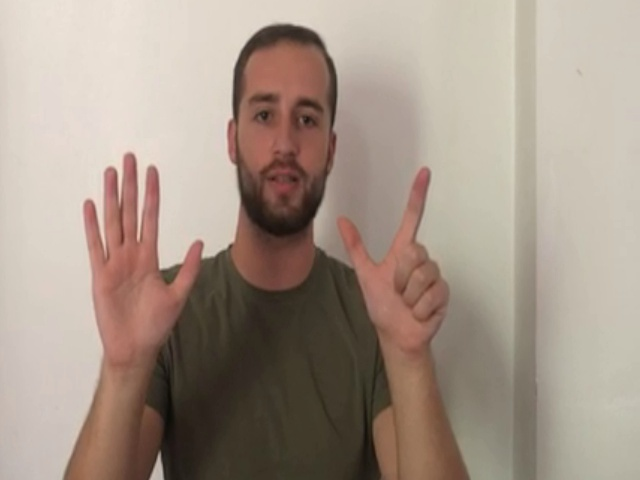Pet i Sedumnaeset: (76, 148, 456, 370)
